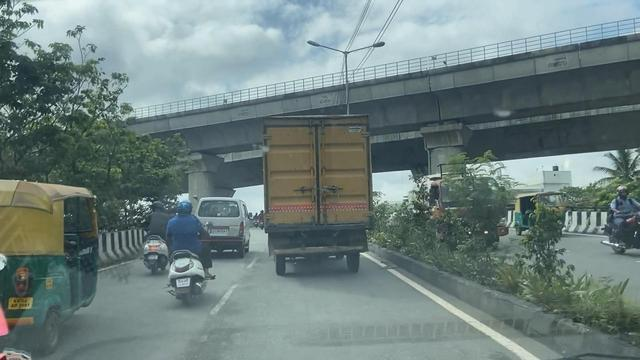HMV: (260, 118, 376, 270)
LMV: (164, 196, 206, 293)
